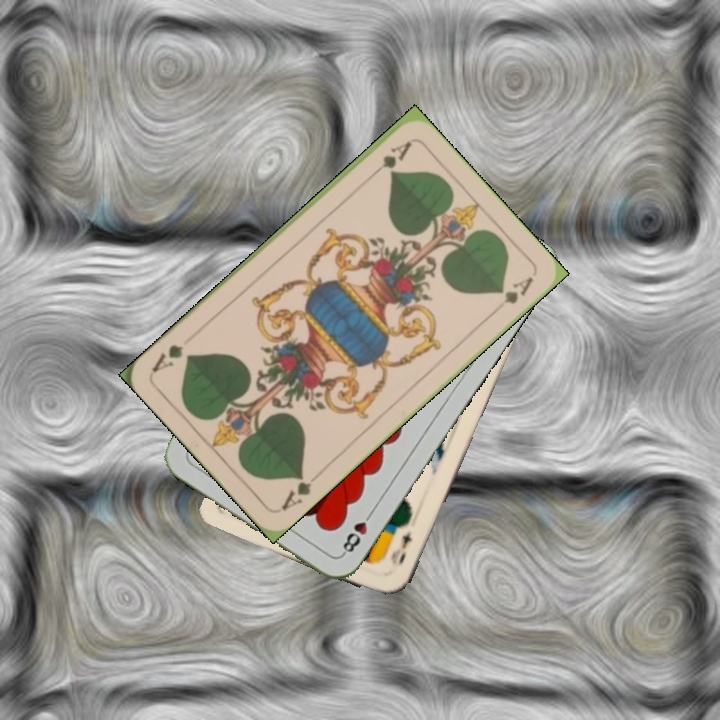EO: (386, 526, 415, 568)
GA: (365, 136, 415, 181), (276, 468, 324, 513)
H8: (338, 506, 376, 558)
